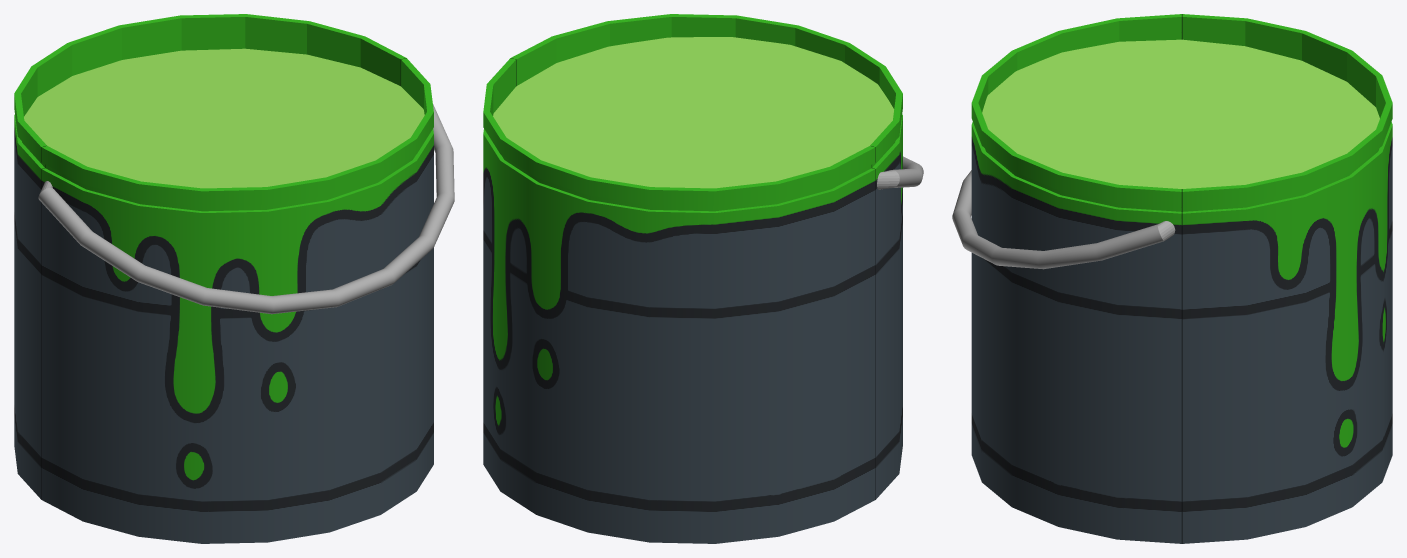
File: paintBucket_Green.fbx
3 views of the same model, side by side, from view 1: azimuth 30°, elevation 25°; view 2: azimuth 150°, elevation 25°; view 3: azimuth 270°, elevation 25° (orthographic).
Parts seen in each view (by area): view 1: paintBucket, paintMesh, bucketHandle; view 2: paintBucket, paintMesh, bucketHandle; view 3: paintBucket, paintMesh, bucketHandle.
Part boxes in pixels (x1,y1,x2,y2): paintBucket: (14, 14, 433, 543); paintMesh: (24, 48, 424, 188); bucketHandle: (38, 104, 454, 314); paintBucket: (483, 14, 902, 543); paintMesh: (493, 37, 894, 188); bucketHandle: (877, 156, 923, 189); paintBucket: (971, 14, 1392, 543); paintMesh: (982, 39, 1379, 188); bucketHandle: (952, 170, 1175, 269).
Size of the model in its own units: 1.32 by 1.13 by 1.28.
3 materials, 1 textured.
